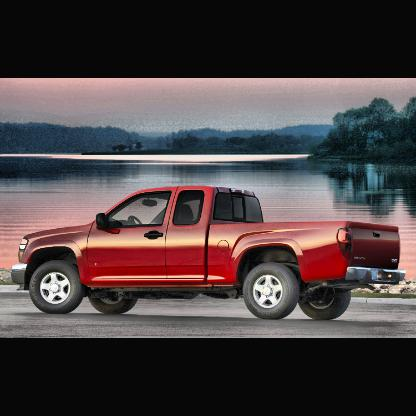GMC Canyon Extended Cab 2012: (12, 186, 408, 321)
